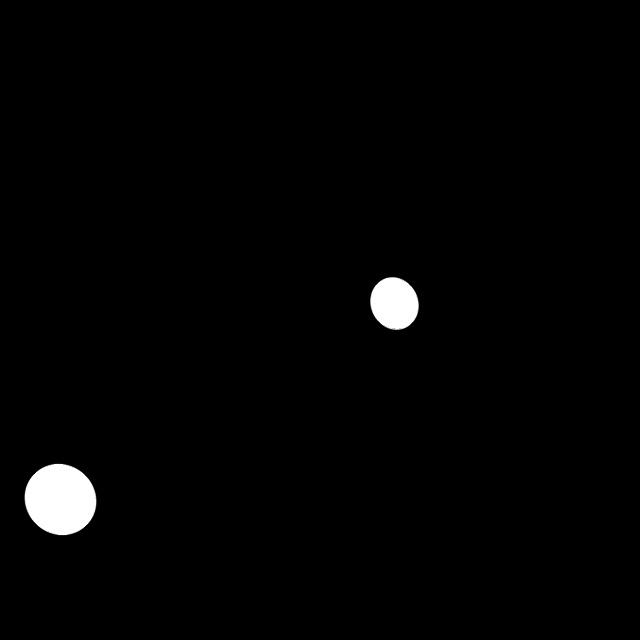Circle: (14, 456, 107, 546), (364, 265, 427, 342)
